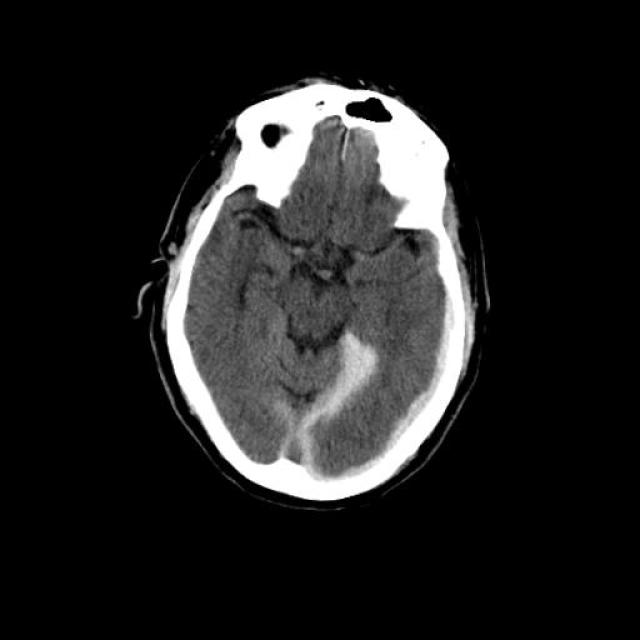Subdural: (232, 322, 383, 518)
